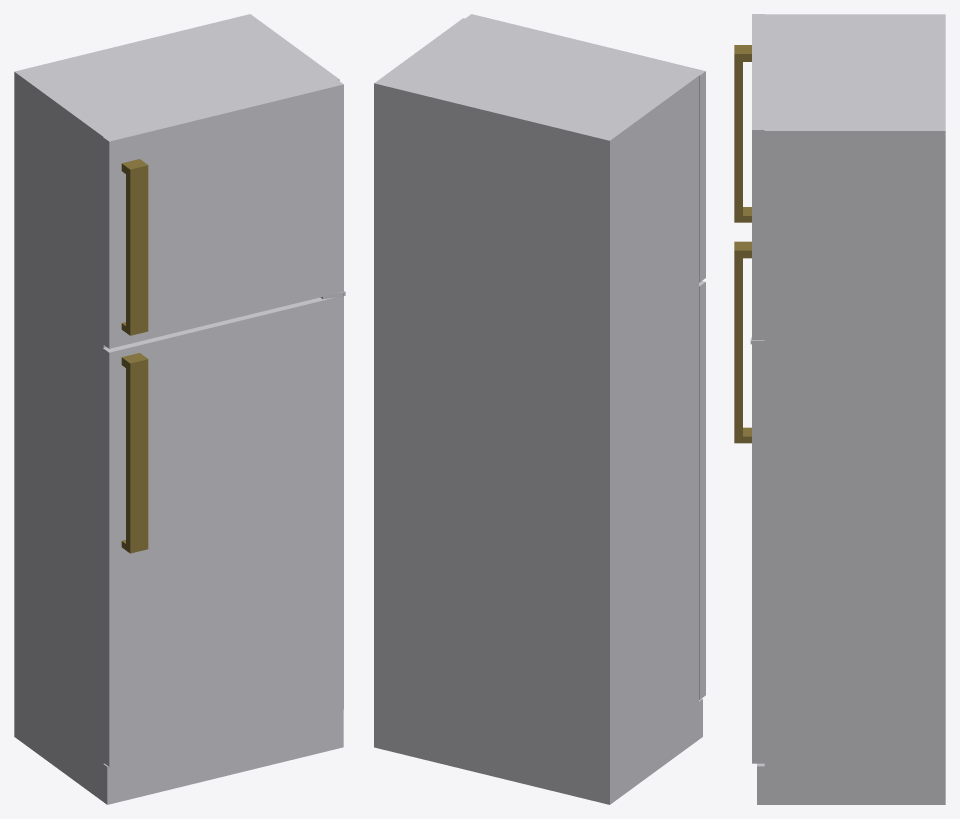
File: Fridge.fbx
3 views of the same model, side by side, from view 1: azimuth 30°, elevation 25°; view 2: azimuth 150°, elevation 25°; view 3: azimuth 270°, elevation 25° (orthographic).
Visible parts, largest first — view 1: DownDoor, Base, UpDoor, DownHandle, UpHandle; view 2: Base, UpDoor, DownDoor; view 3: Base, DownDoor, UpDoor, DownHandle, UpHandle.
Boxes of the visible parts, x1,y1,x2,y2 form: DownDoor: (103,296,343,766); Base: (14,14,343,804); UpDoor: (103,80,343,348); DownHandle: (121,353,148,553); UpHandle: (121,159,148,335); Base: (374,18,702,804); UpDoor: (465,14,705,282); DownDoor: (699,281,705,699); Base: (757,14,945,804); DownDoor: (752,344,764,763); UpDoor: (752,14,764,339); DownHandle: (734,241,751,443); UpHandle: (734,45,751,222).
Size of the model in its own units: 1.01 by 2.71 by 0.77.
